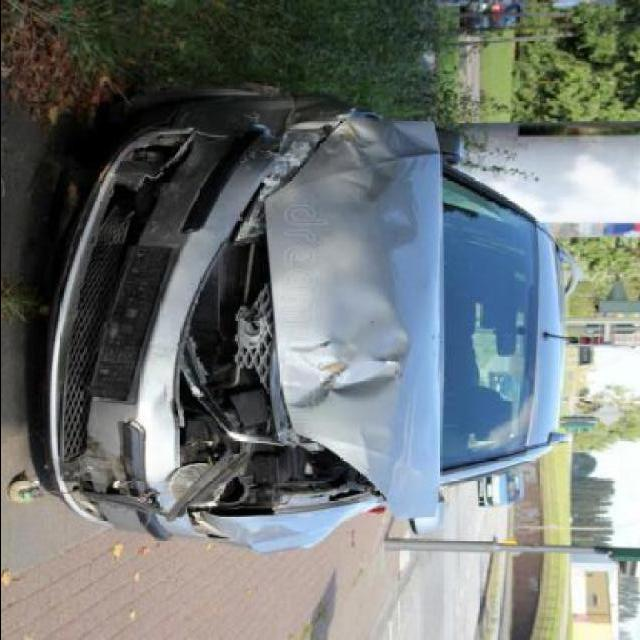bonnet-dent: (243, 128, 443, 515)
front-bumper-dent: (67, 91, 263, 313), (36, 313, 192, 556)
